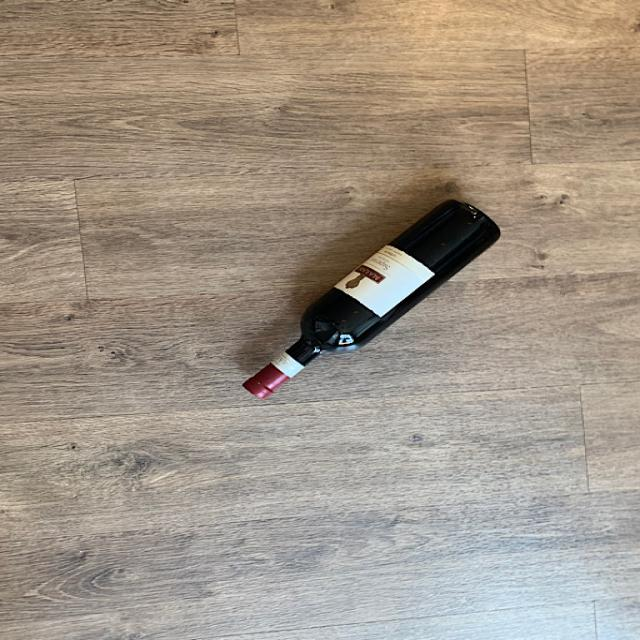litter: (240, 202, 508, 399)
